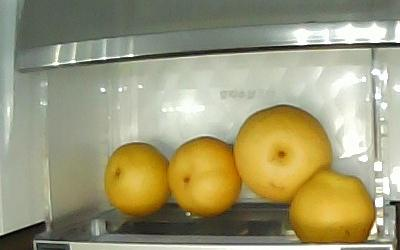pear: (232, 102, 333, 203), (287, 167, 376, 244), (165, 135, 242, 216), (102, 140, 173, 218)
